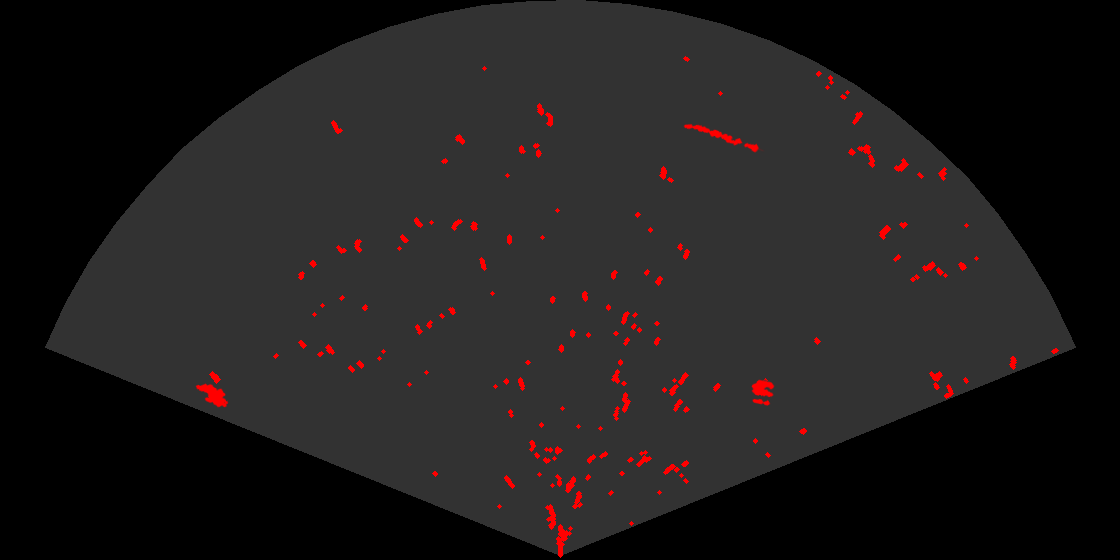AUV: (194, 382, 230, 409)
ball: (750, 378, 776, 407)
chain: (682, 122, 765, 154)
